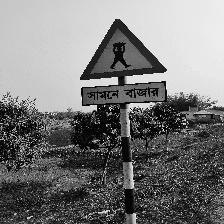Market-in-front: (79, 19, 168, 106)
